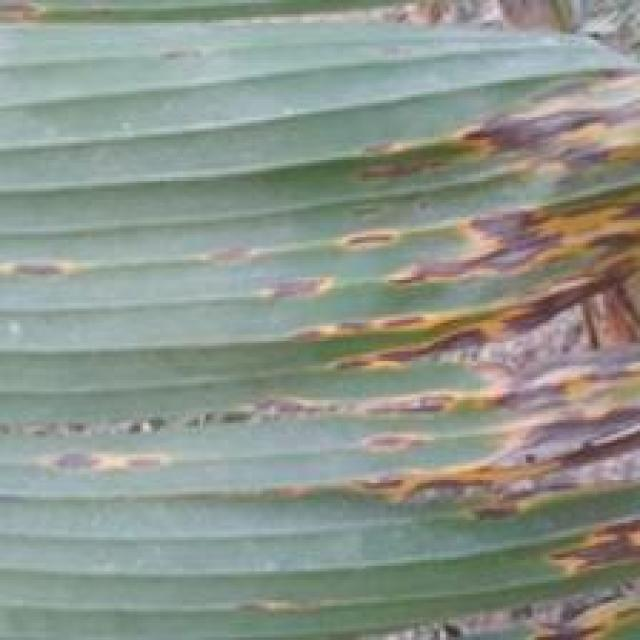Early_leaf_spot: (171, 0, 640, 640), (19, 399, 202, 490), (0, 246, 101, 312), (0, 0, 52, 45)
